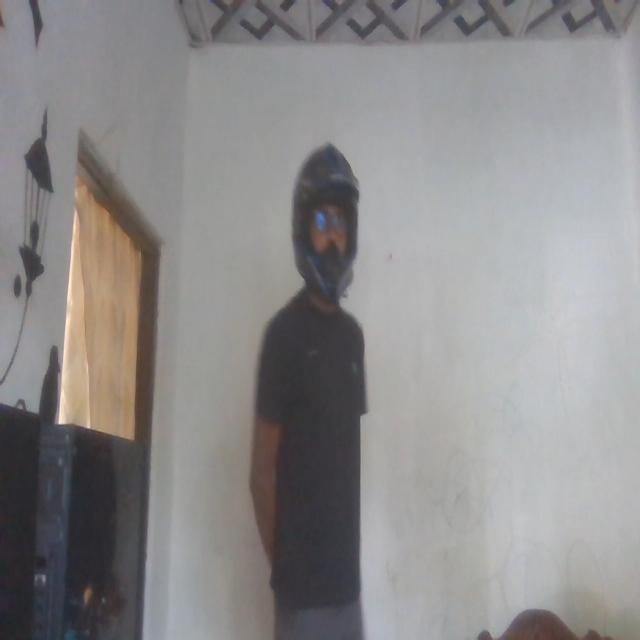Helmet_Wearer: (279, 143, 357, 299)
Person: (247, 139, 383, 640)
